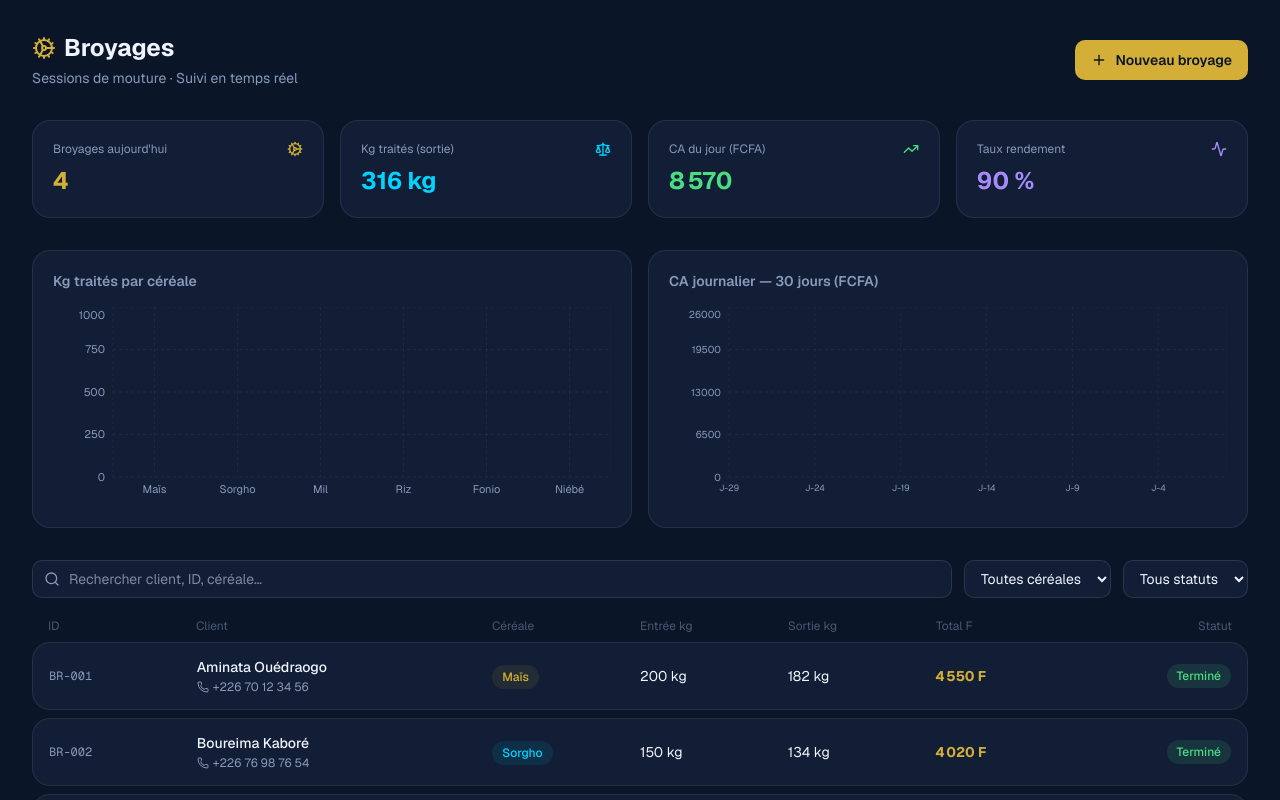
Test: BroyagesPage — filtres et recherche › 16. filtre par statut "En attente" → affiche BR-004 seulement
The image size is (1280, 800).
Step 1. Select "En attente" in the 2nd dropdown → (1186, 579), box [1123,560,1248,598]
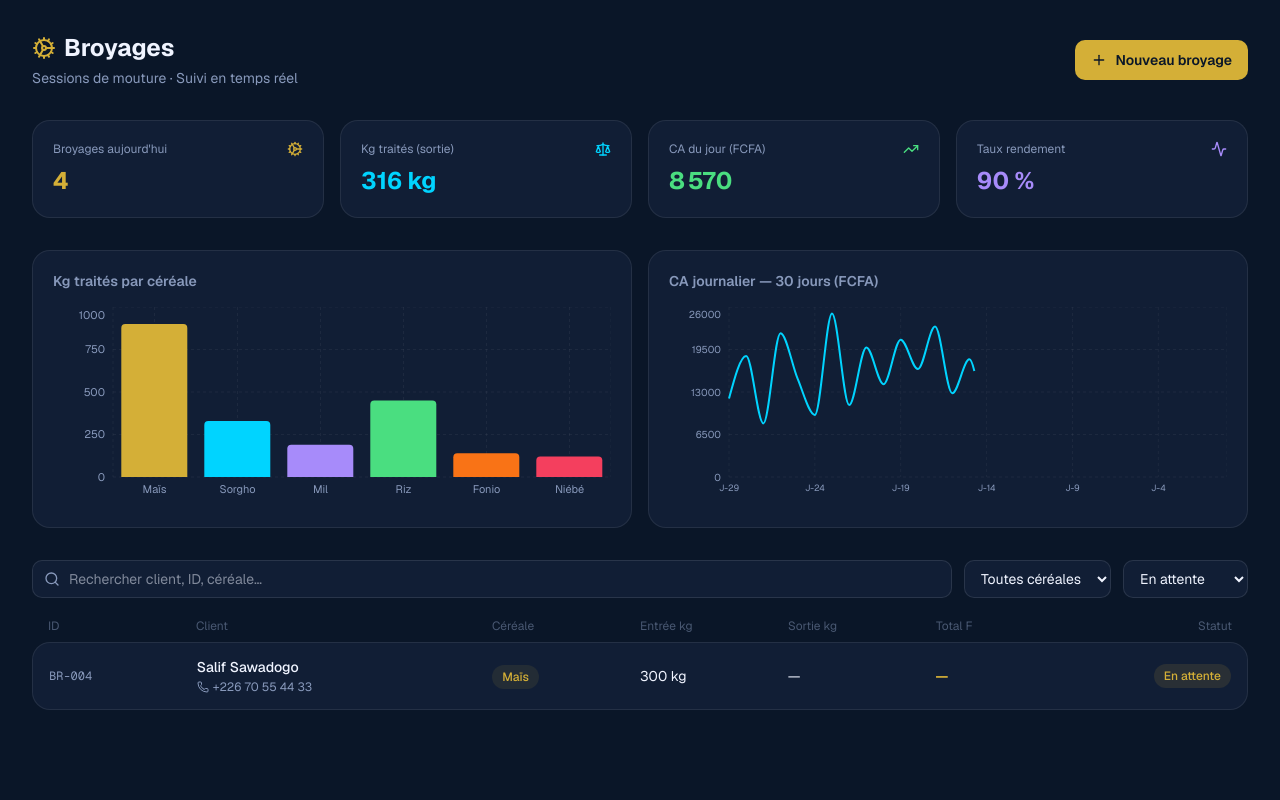
Check: the text "BR-004" is shown, box [49,668,92,684]
Check: the text "BR-001" is gone
